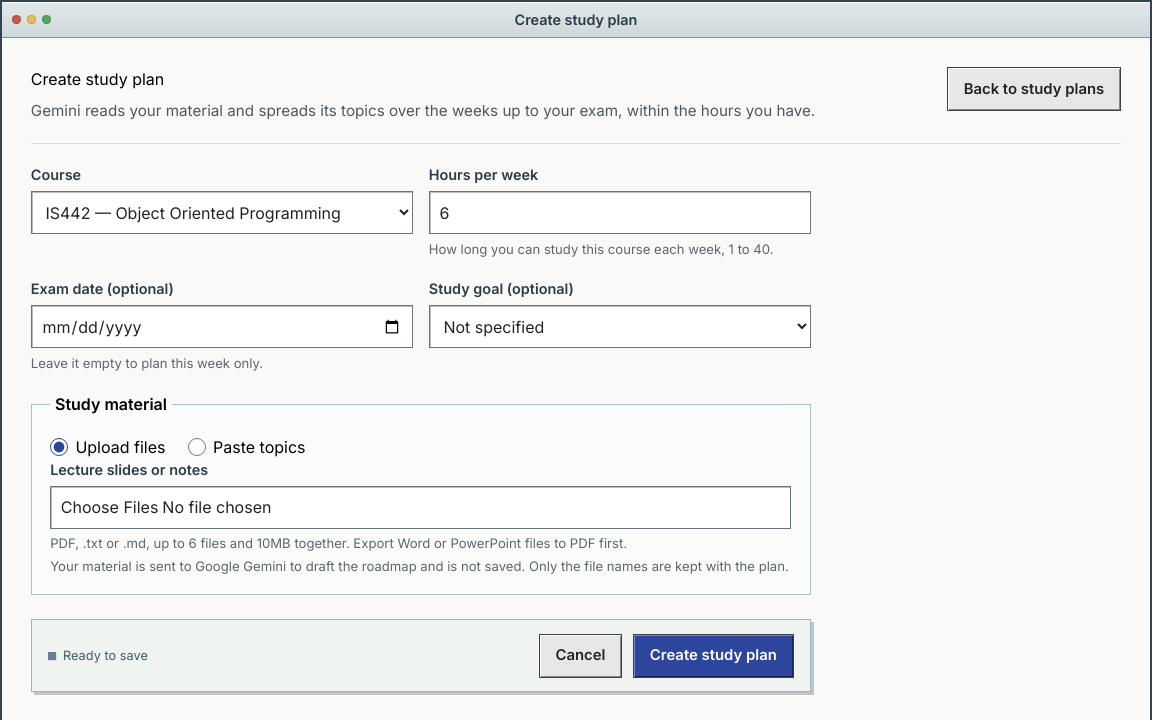
Test: creating a study plan › shows the server’s message next to the field it names
Click the radio button labelled "Paste topics".
click(197, 447)  # box top-left (188, 438), bottom-right (206, 456)
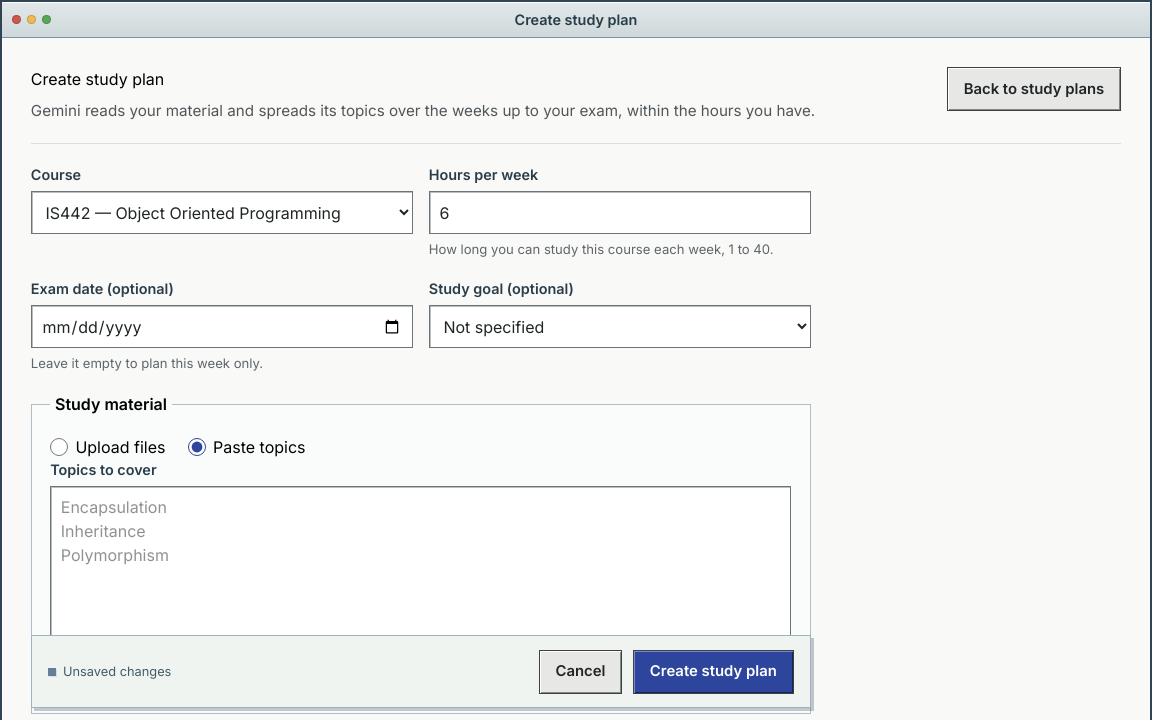
Type "Encapsulation" into the text box labelled "Topics to cover".
click(421, 567); type("Encapsulation")  # box top-left (50, 486), bottom-right (791, 648)
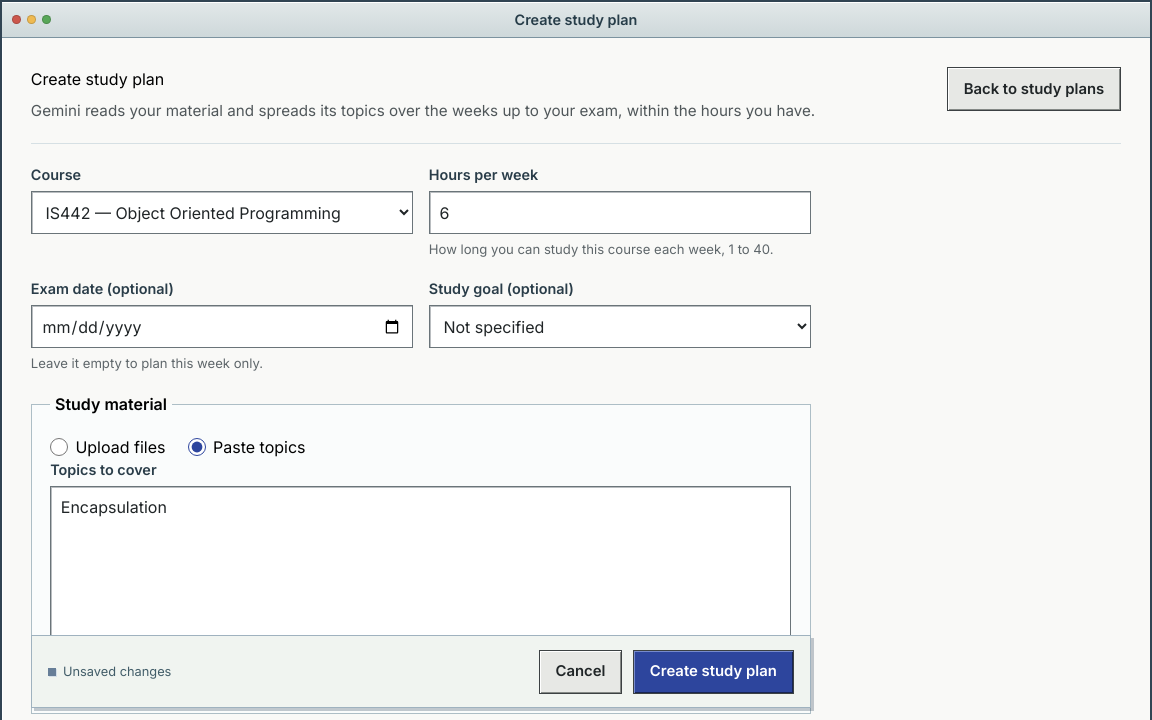
Click the button "Create study plan".
click(713, 671)  # box top-left (633, 649), bottom-right (794, 693)
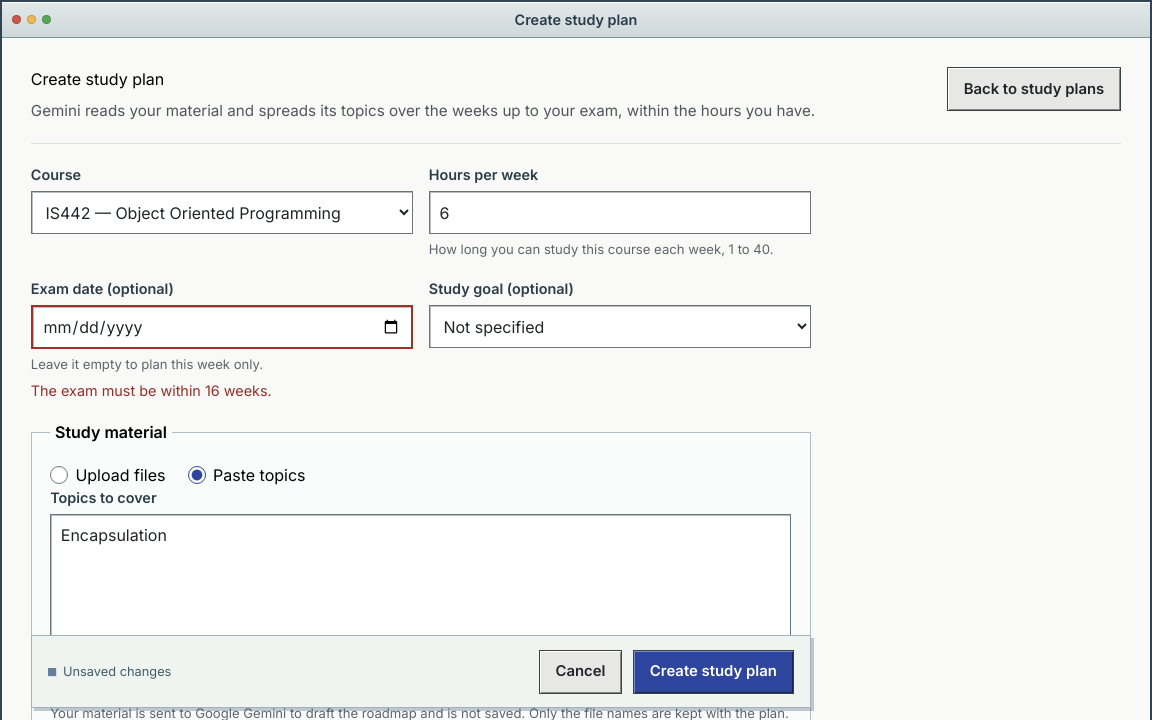
Now the text "The exam must be within 16 weeks." is shown, box top-left (31, 382), bottom-right (272, 399)
